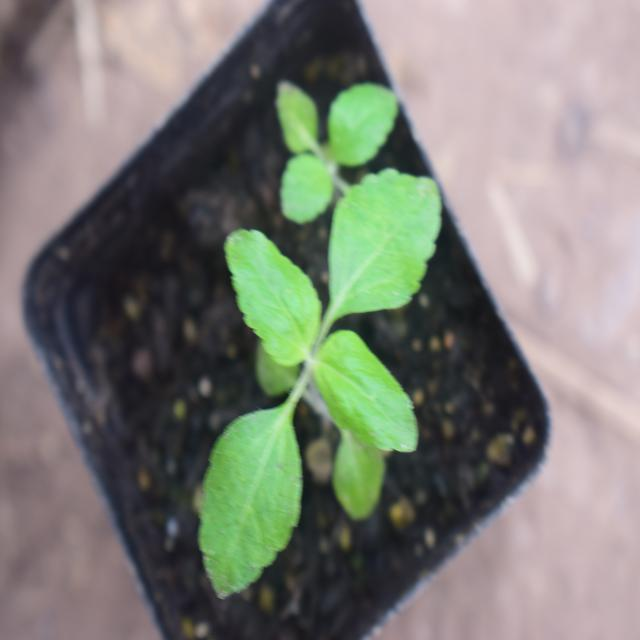billygoat_weed: (184, 161, 449, 588)
